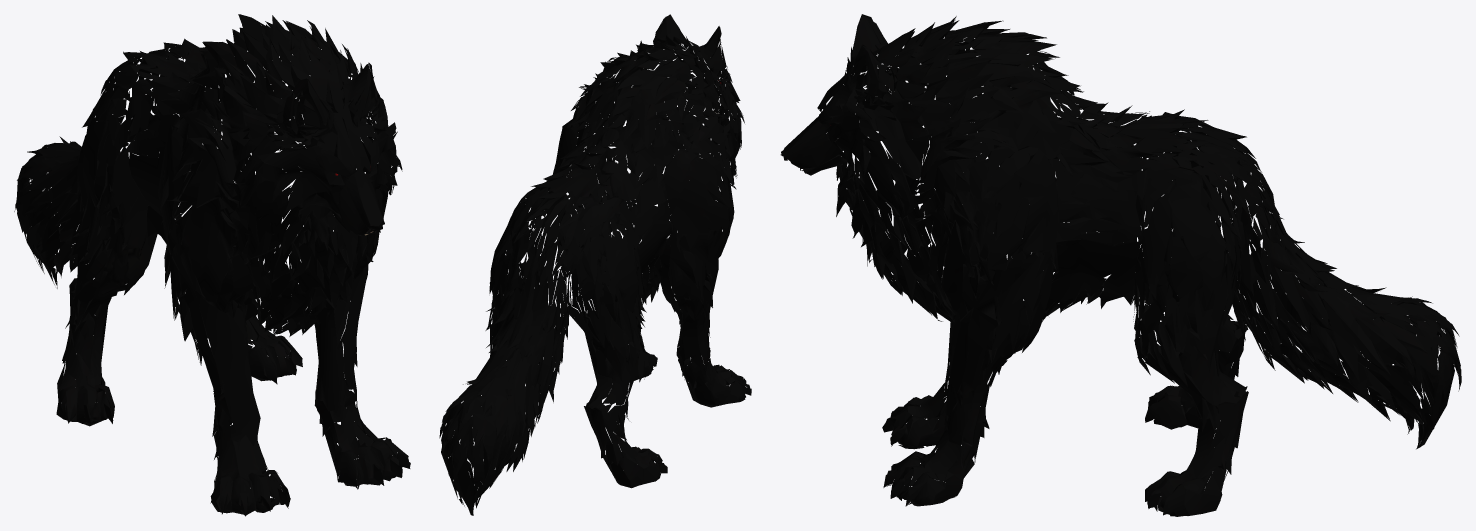
File: heukrang.glb
3 views of the same model, side by side, from view 1: azimuth 30°, elevation 25°; view 2: azimuth 150°, elevation 25°; view 3: azimuth 270°, elevation 25° (orthographic). The views are drawn at different scales.
Parts seen in each view (by area): view 1: material; view 2: material; view 3: material.
Boxes of the visible parts, x1,y1,x2,y2 form: material: [14, 14, 410, 516]; material: [439, 14, 751, 515]; material: [780, 14, 1461, 516].
Bounding box in the file's own units: 0.428 × 0.7907 × 1.09.
Materials: 1 (1 with a texture image).
